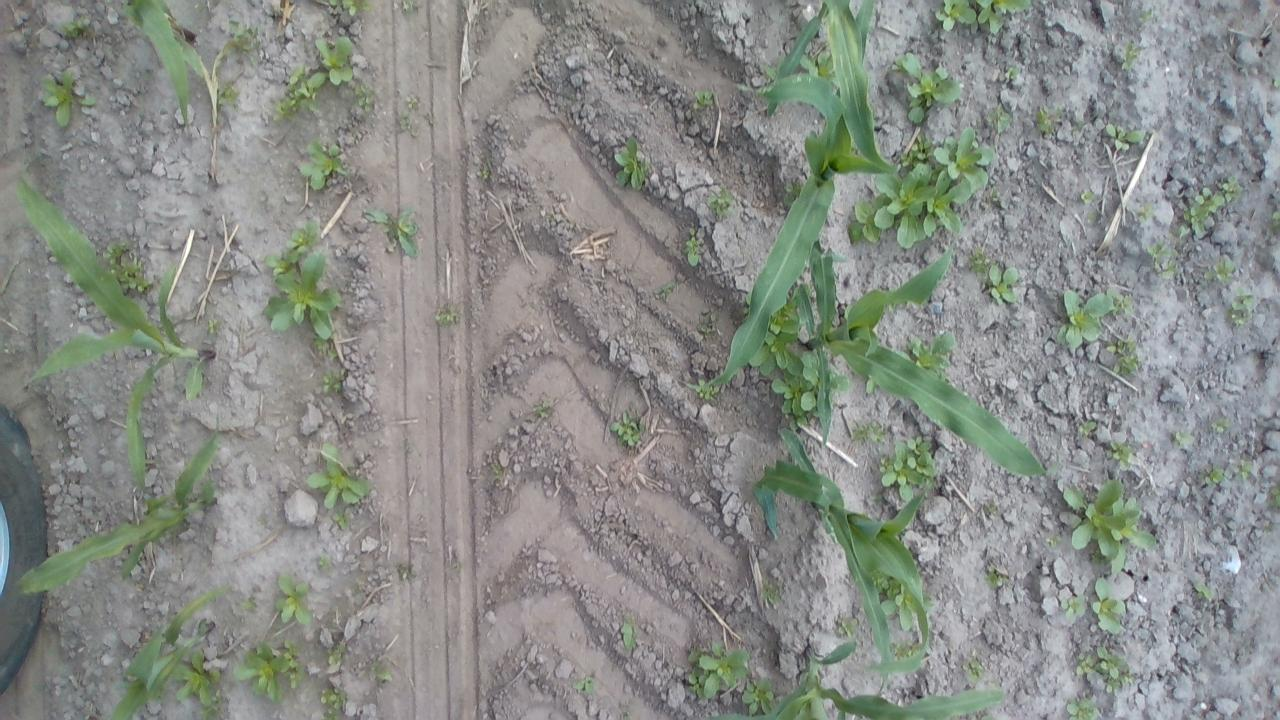Maize: (680, 0, 877, 391), (11, 172, 212, 489), (796, 241, 1060, 478), (751, 428, 930, 700), (16, 429, 218, 594), (710, 640, 1004, 720), (766, 0, 899, 172), (104, 583, 230, 720), (121, 0, 201, 130)
Weeds: (847, 126, 994, 250), (1061, 478, 1157, 575), (262, 250, 340, 338), (771, 348, 851, 431), (741, 286, 812, 378), (891, 52, 963, 124), (306, 444, 372, 508), (868, 568, 934, 631), (880, 435, 938, 503), (1055, 288, 1115, 350), (233, 640, 290, 703), (688, 642, 750, 698), (272, 64, 330, 123), (894, 331, 956, 385), (362, 204, 420, 259), (936, 0, 1032, 33), (41, 71, 95, 128), (170, 648, 221, 706), (102, 240, 152, 296), (298, 138, 348, 192), (274, 572, 313, 628), (1182, 187, 1226, 236), (315, 36, 356, 86), (613, 134, 648, 190), (222, 20, 263, 67), (1090, 575, 1123, 633), (1094, 646, 1133, 694), (800, 47, 840, 92), (982, 264, 1020, 306), (1104, 334, 1140, 376), (1102, 122, 1146, 152), (286, 222, 318, 262), (610, 411, 646, 446), (741, 678, 774, 716), (1146, 242, 1178, 279), (284, 639, 304, 689), (1228, 288, 1254, 326), (706, 188, 736, 218), (321, 687, 347, 720), (1036, 104, 1062, 136), (1106, 440, 1133, 469), (681, 228, 701, 267), (851, 422, 887, 443), (986, 103, 1012, 132), (1204, 260, 1237, 282), (888, 640, 922, 661), (1066, 698, 1098, 720), (1217, 175, 1243, 202), (967, 244, 990, 274), (310, 334, 338, 358), (199, 691, 222, 720), (328, 0, 372, 15), (321, 368, 346, 394), (620, 614, 638, 650), (216, 80, 238, 109), (783, 179, 804, 209), (1062, 596, 1088, 620), (396, 110, 419, 137), (984, 564, 1008, 589), (1121, 41, 1141, 71), (59, 17, 90, 36), (354, 84, 375, 112), (759, 578, 781, 604), (963, 657, 984, 684), (698, 308, 716, 338), (369, 661, 392, 684), (695, 379, 719, 401), (1112, 292, 1134, 316), (764, 57, 784, 81), (434, 306, 460, 324), (572, 674, 595, 693), (1202, 466, 1225, 485), (1076, 652, 1094, 676), (837, 618, 858, 638), (332, 510, 352, 530), (326, 644, 346, 664), (1193, 580, 1213, 600), (693, 90, 713, 110), (1233, 459, 1252, 479), (1172, 430, 1194, 447), (1211, 418, 1233, 434), (654, 282, 675, 298), (396, 564, 416, 580), (1138, 201, 1154, 221), (1079, 420, 1097, 437), (533, 402, 551, 418), (205, 317, 220, 336), (988, 185, 1001, 205), (1268, 487, 1280, 507), (402, 0, 416, 17), (865, 376, 879, 393), (1080, 187, 1094, 204), (1174, 226, 1192, 239), (1004, 66, 1019, 81), (1138, 9, 1154, 23), (404, 94, 418, 109), (476, 166, 491, 180), (1270, 209, 1280, 230), (491, 463, 504, 479), (240, 598, 256, 610), (1047, 534, 1060, 548), (318, 554, 329, 570), (1086, 209, 1098, 223), (868, 494, 882, 502), (888, 303, 898, 314), (452, 561, 462, 572), (1074, 121, 1085, 131), (984, 505, 996, 514), (404, 442, 416, 450), (258, 516, 267, 526), (1273, 76, 1280, 88), (980, 715, 996, 720)
